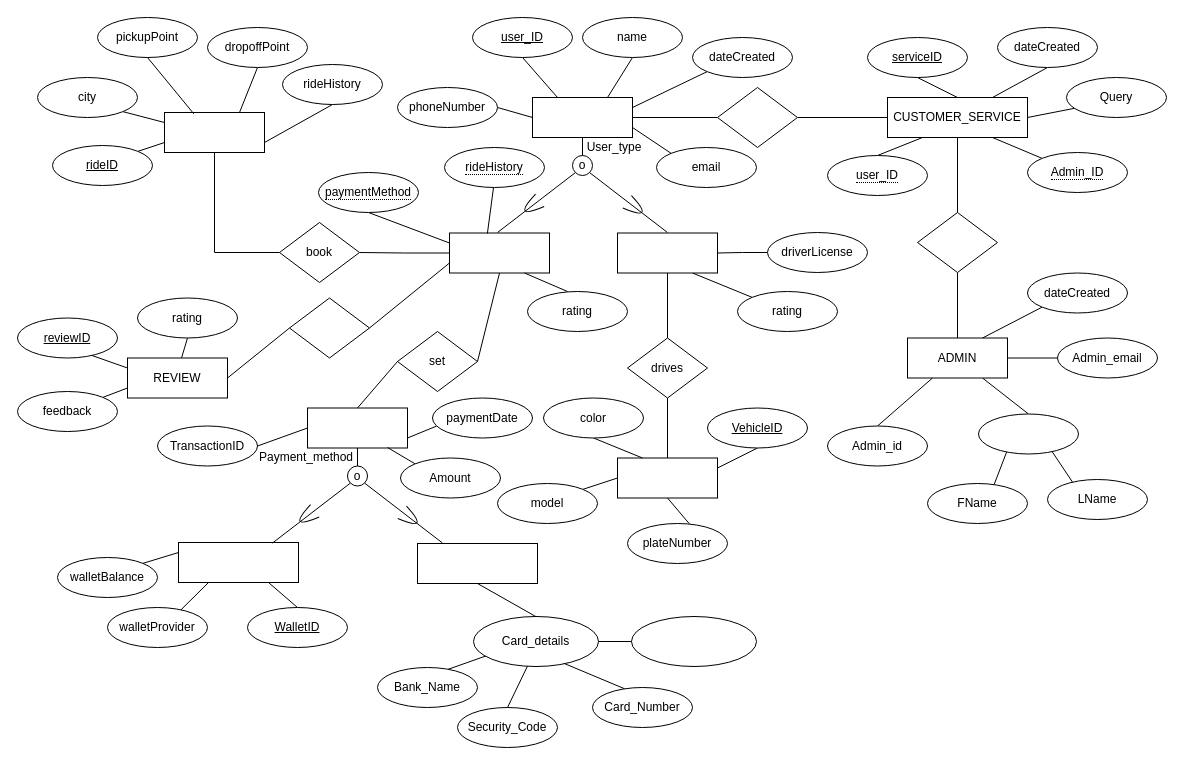
Image size: 1184x765. Some labels were removed from this diagram. Each missing label, with the centre of its shape:
Admin_Name: point (1028, 433)
Card_Holder_Name: point (693, 641)
CARD_PAYMENT: point (477, 563)
DRIVER: point (667, 252)
handle: point (957, 242)
PASSENGER: point (499, 252)
PAYMENT: point (357, 427)
provide: point (329, 327)
request: point (757, 117)
RIDE: point (214, 132)
USER: point (582, 117)
VEHICLE: point (667, 477)
WALLET_PAYMENT: point (238, 562)
